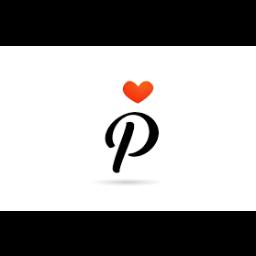p: (102, 108, 160, 176)
